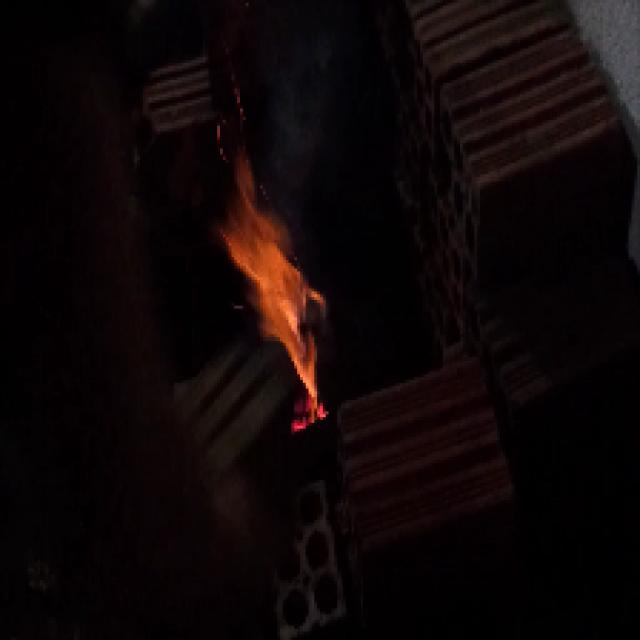fire: (216, 204, 324, 405)
